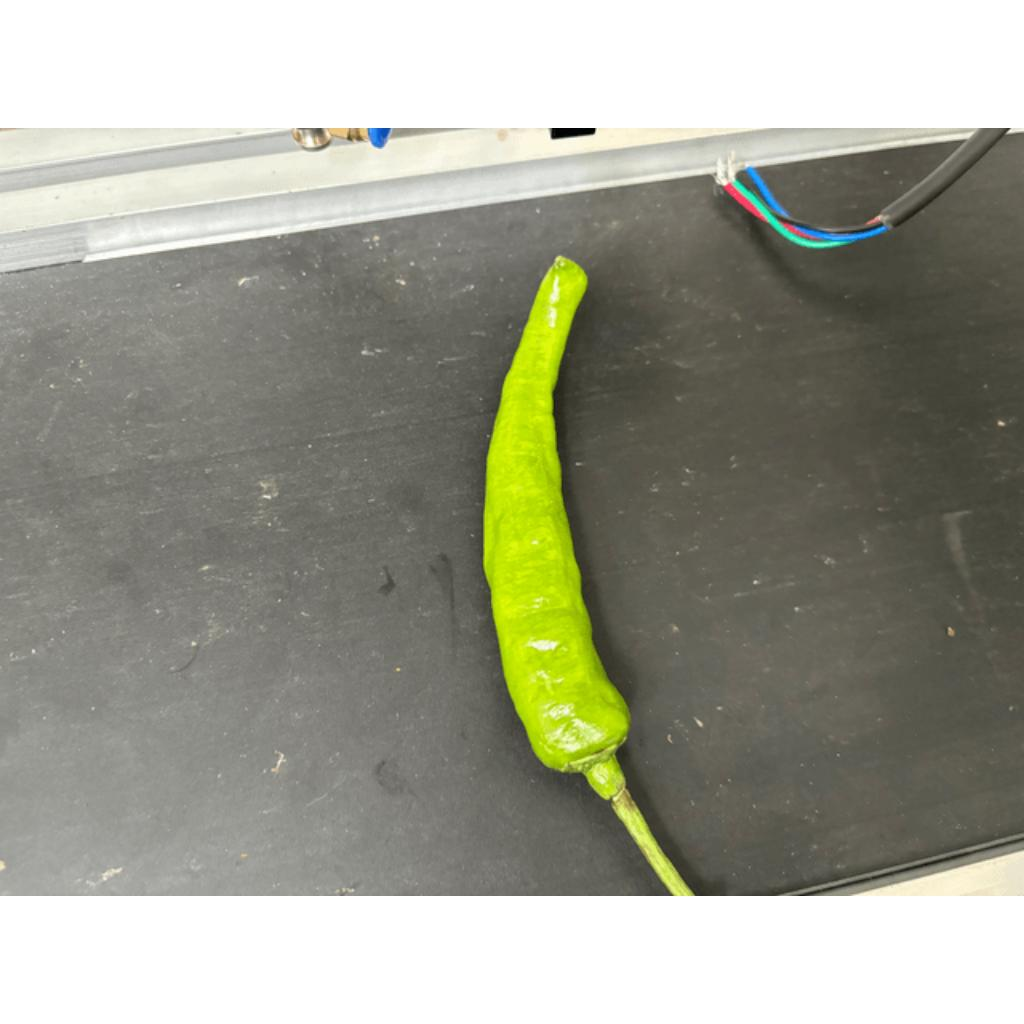chili: (483, 252, 632, 777)
